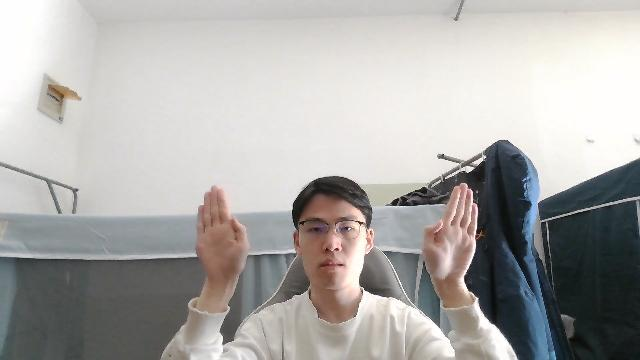five: (419, 180, 482, 290), (192, 183, 252, 292)
